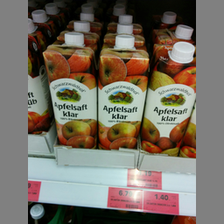juice: (42, 32, 98, 150), (97, 35, 151, 151), (140, 42, 195, 155)
